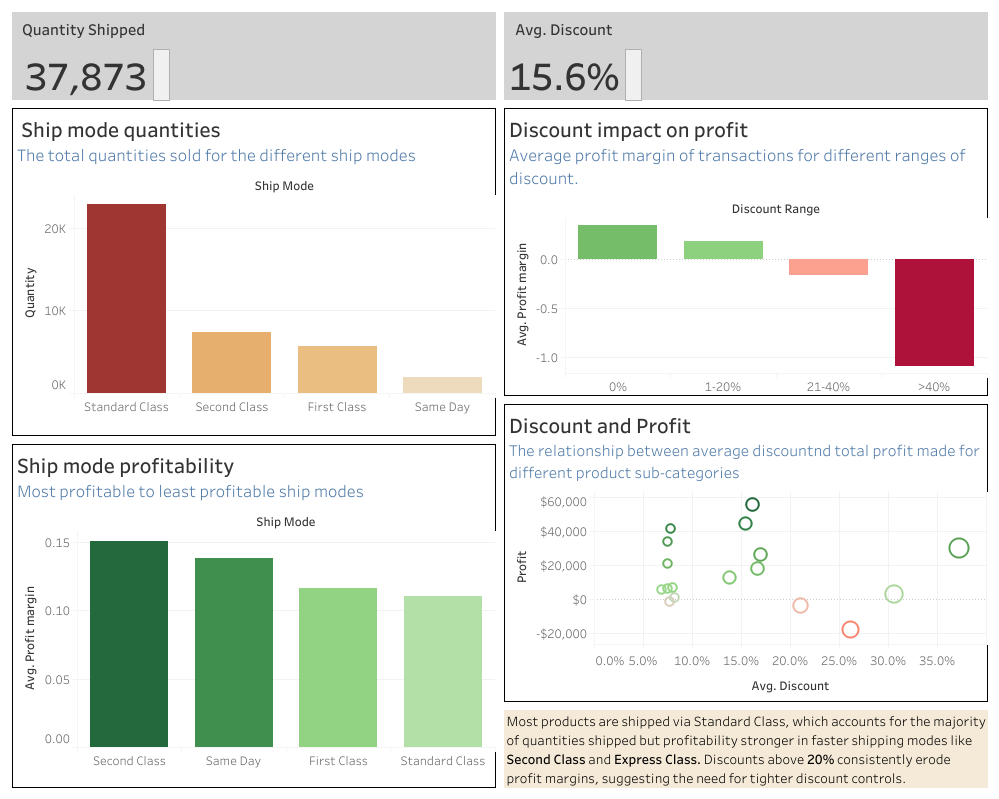

Layout of this report page (visuals, bound fields, positions):
{"tool":"tableau","page":{"name":"Dashboard 2","canvas":[1000,800],"ordinal":1},"visuals":[{"type":"worksheet","title":"KPI - Quantity (2)","mark":"Automatic","box":[8,8,492,96]},{"type":"worksheet","title":"KPI - Discount","mark":"Automatic","box":[500,8,492,96]},{"type":"worksheet","title":"Ship mode quantities","mark":"Automatic","rows":["Quantity"],"cols":["Ship Mode"],"box":[8,104,492,336]},{"type":"worksheet","title":"Discount impact on profit","mark":"Automatic","rows":["Profit margin"],"cols":["Discount Range"],"box":[500,104,492,296]},{"type":"worksheet","title":"Sheet 19","mark":"Automatic","rows":["Profit"],"cols":["Discount"],"box":[500,400,492,306]},{"type":"worksheet","title":"Ship mode profitability","mark":"Automatic","rows":["Profit margin"],"cols":["Ship Mode"],"box":[8,440,492,352]},{"type":"text","box":[500,706,492,86]}]}

Visuals, with their boxes in screenshot pixels (x1, y1, x2, y2), scaled from the page's 1000x800 canvas onto the 999x799 screenshot:
"KPI - Quantity (2)" worksheet: [8,8,500,104]
"KPI - Discount" worksheet: [500,8,991,104]
"Ship mode quantities" worksheet: [8,104,500,439]
"Discount impact on profit" worksheet: [500,104,991,400]
"Sheet 19" worksheet: [500,400,991,705]
"Ship mode profitability" worksheet: [8,439,500,791]
text: [500,705,991,791]
